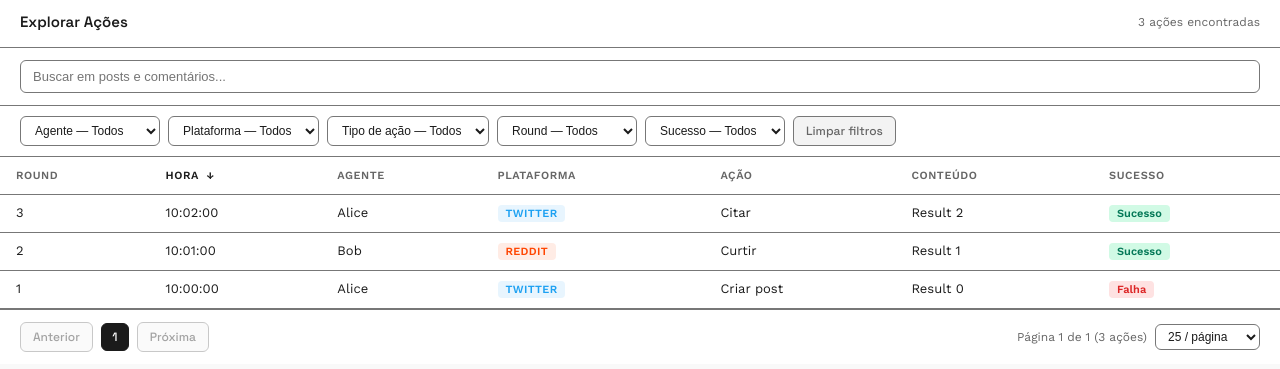
Test: ActionExplorer › shows empty state when no actions match filters
The width and height of the screenshot is (1280, 369).
Expected: the number of rows with class "explorer-row" is 3, [0,194,1279,232]; [0,232,1279,270]; [0,270,1279,308]
# Search for something that doesn't exist
Type "NONEXISTENT_QUERY_999" into the search field with class "explorer-search".
click(640, 76); type("NONEXISTENT_QUERY_999")  # box [20,60,1260,93]
Wait 400 ms
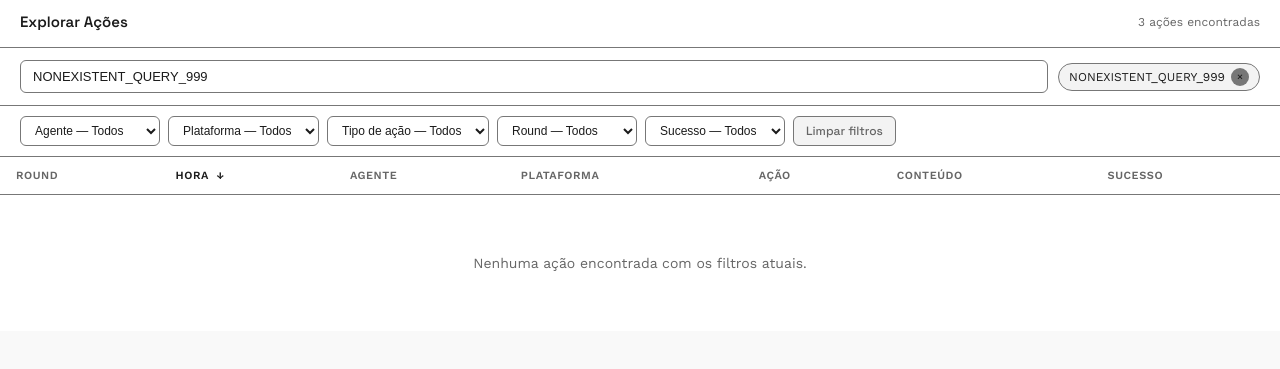
Result: no rows with class "explorer-row" are shown
Result: the text "Nenhuma ação encontrada" is shown at [473,255,807,271]
